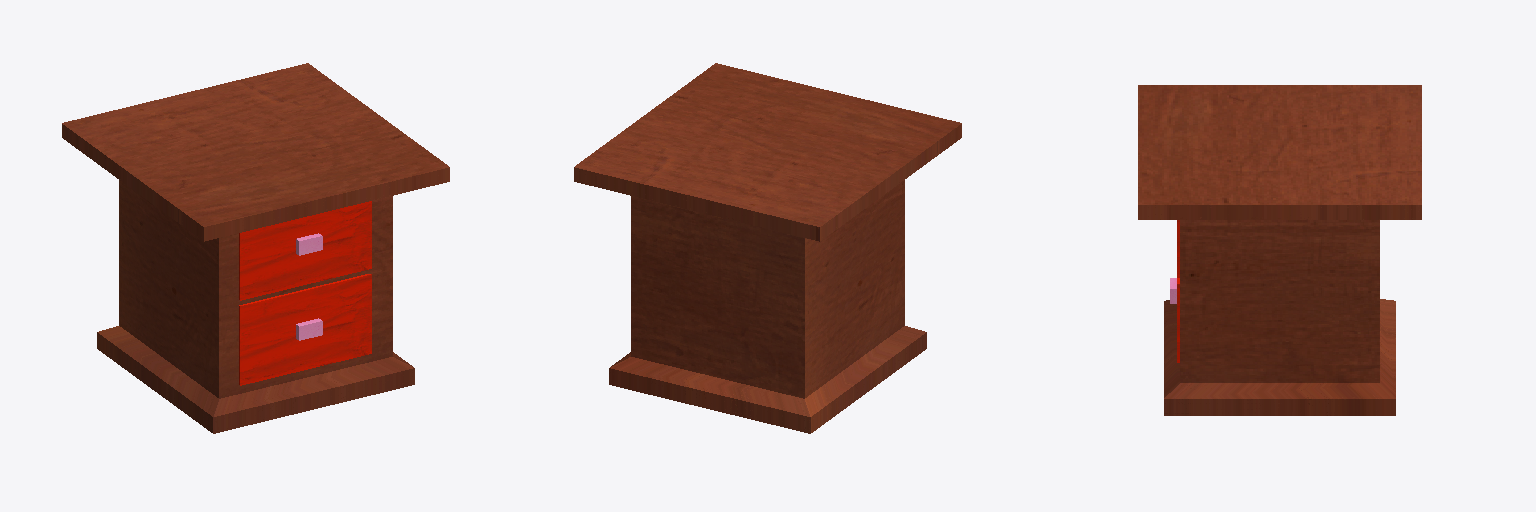
3 views of the same model, side by side, from view 1: azimuth 30°, elevation 25°; view 2: azimuth 150°, elevation 25°; view 3: azimuth 270°, elevation 25° (orthographic).
Parts seen in each view (by area): view 1: bedside_table, bedside_table_drawer, bedside_table_drawer_001; view 2: bedside_table; view 3: bedside_table.
Part boxes in pixels (left/top/right/bottom): bedside_table: left=62, top=63, right=449, bottom=433; bedside_table_drawer: left=239, top=274, right=371, bottom=385; bedside_table_drawer_001: left=239, top=201, right=371, bottom=300; bedside_table: left=574, top=63, right=961, bottom=433; bedside_table: left=1138, top=85, right=1421, bottom=415.
Bounding box in the file's own units: 8.4 × 7.22 × 8.4.
3 materials, 3 textured.